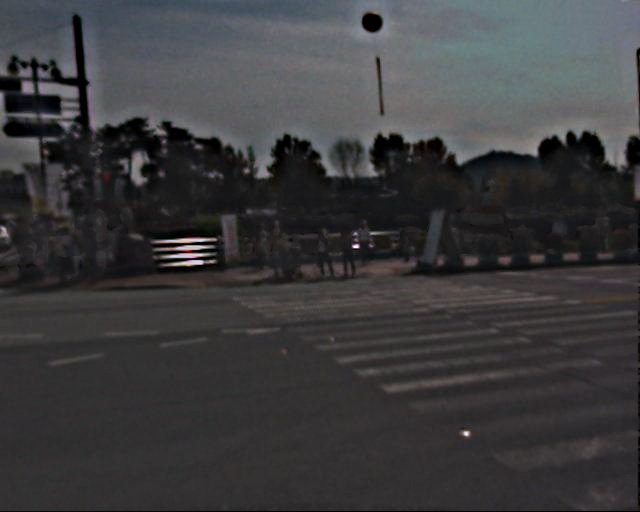person: (11, 209, 56, 280), (51, 222, 87, 284), (81, 220, 109, 277), (268, 221, 291, 276), (316, 226, 337, 277), (358, 218, 379, 269), (340, 225, 361, 275), (253, 222, 273, 271)
